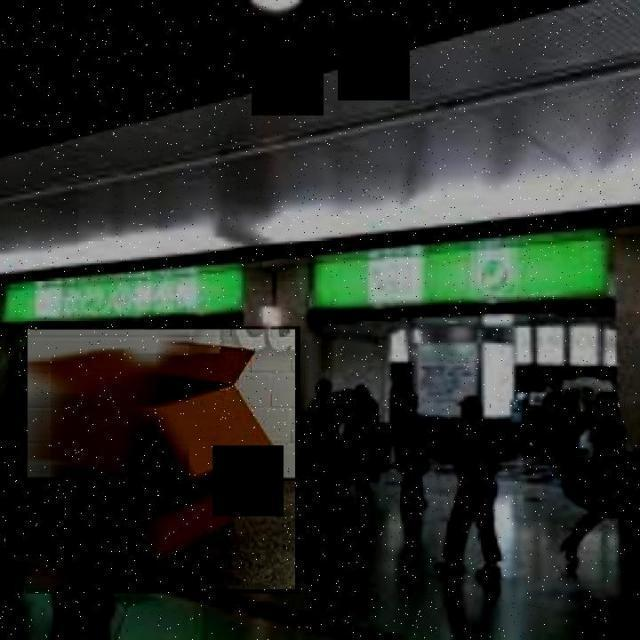box: (26, 326, 302, 594)
